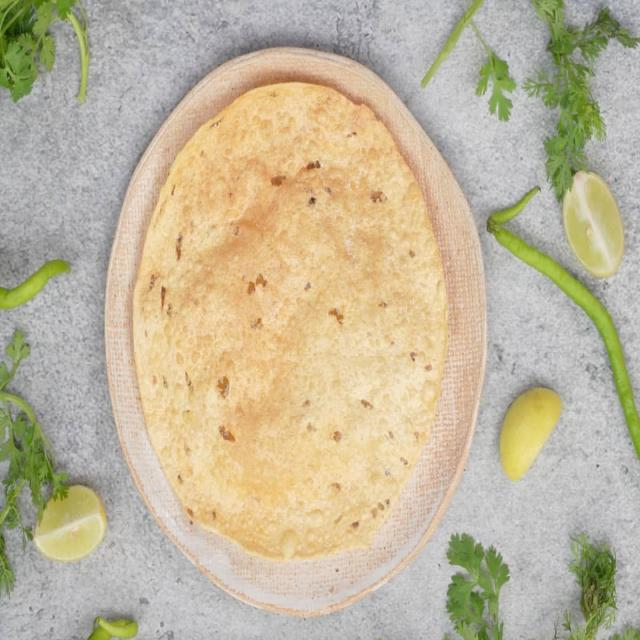papad: (137, 79, 462, 552)
